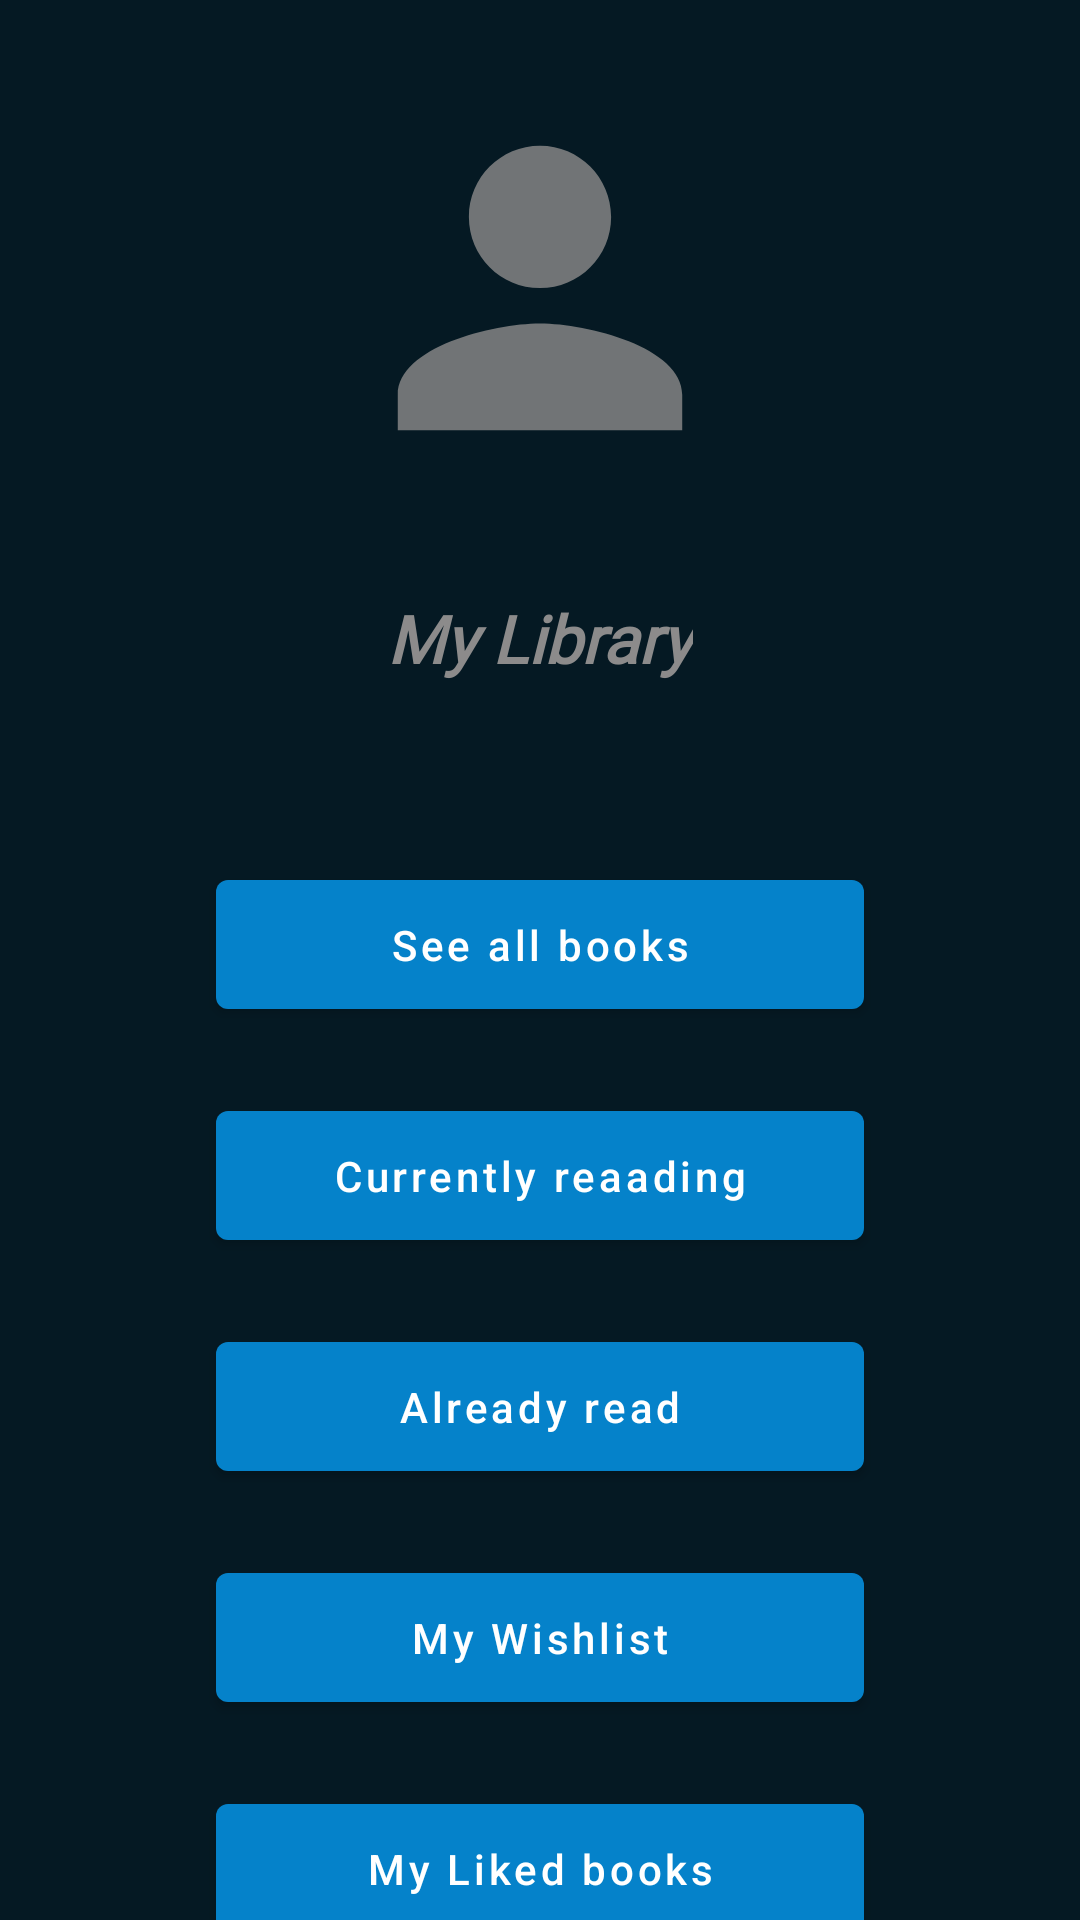

Icon bounding boxes for this 1080px x 1920px phone screenshot, format (x1, y1, x2, y2):
profile picture: (397, 145, 682, 431)
